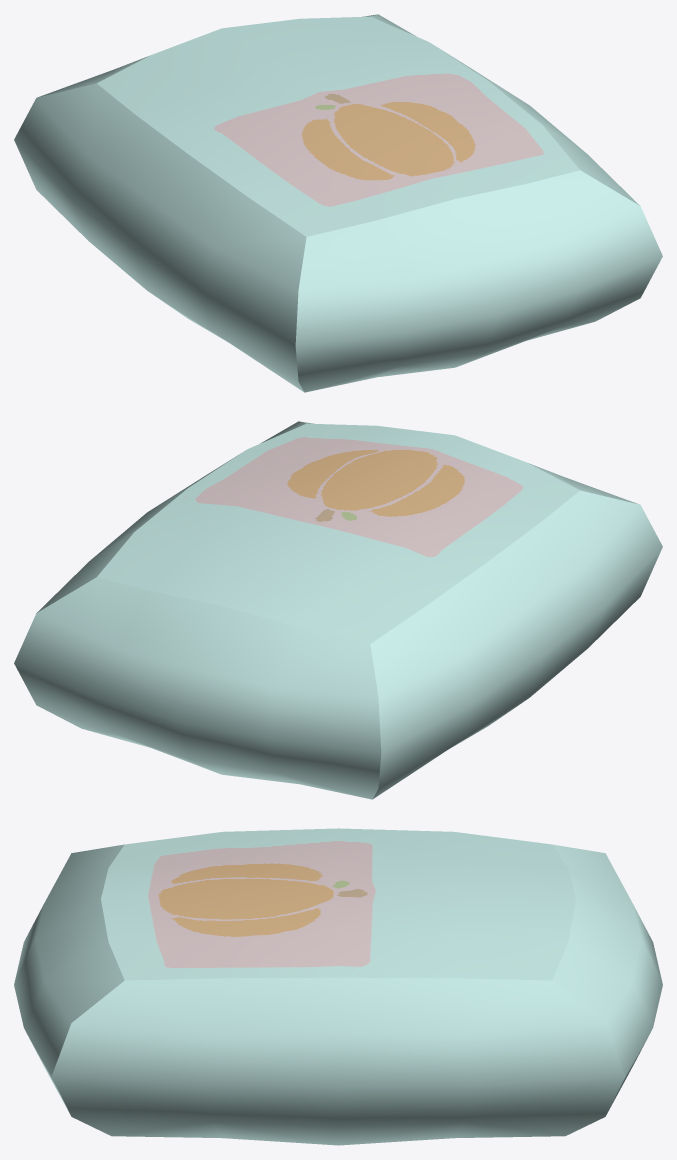
The model's file is seedsPumpkin.fbx.
3 renders of one model, top to bottom at view 1: azimuth 30°, elevation 25°; view 2: azimuth 150°, elevation 25°; view 3: azimuth 270°, elevation 25°, orthographic.
Visible parts, largest first — view 1: Cube.001; view 2: Cube.001; view 3: Cube.001.
Boxes of the visible parts, box(x1,y1,x2,y2) form: Cube.001: box(14, 14, 662, 392); Cube.001: box(14, 421, 662, 799); Cube.001: box(14, 828, 662, 1145).
Bounding box in the file's own units: 104 × 50.54 × 140.
Materials: 1 (1 with a texture image).
